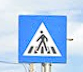trecere_pietoni: (16, 14, 69, 65)
